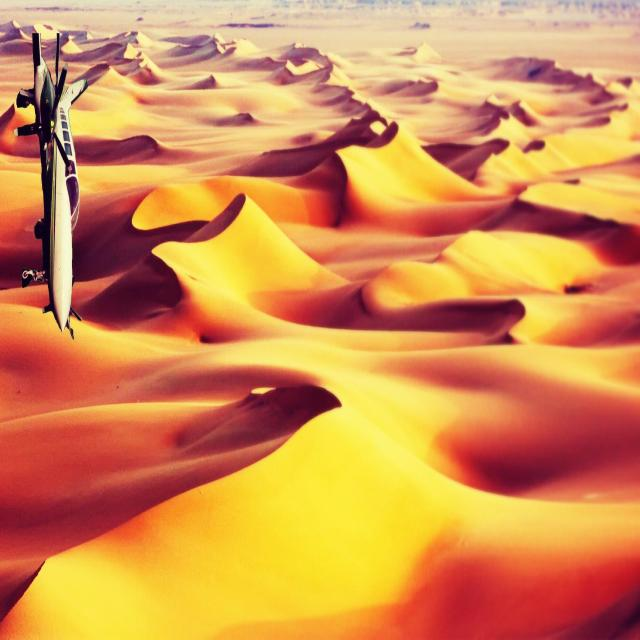airplane: (13, 30, 88, 342)
